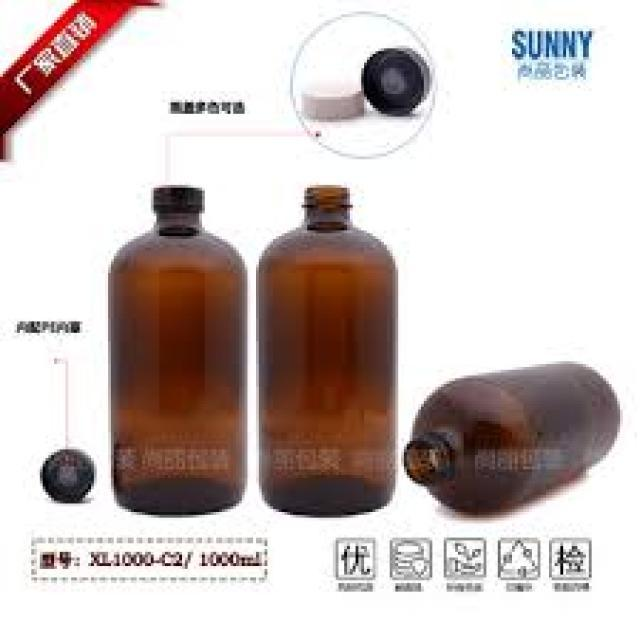Glass: (256, 184, 394, 522), (110, 183, 246, 517), (400, 354, 622, 522)
